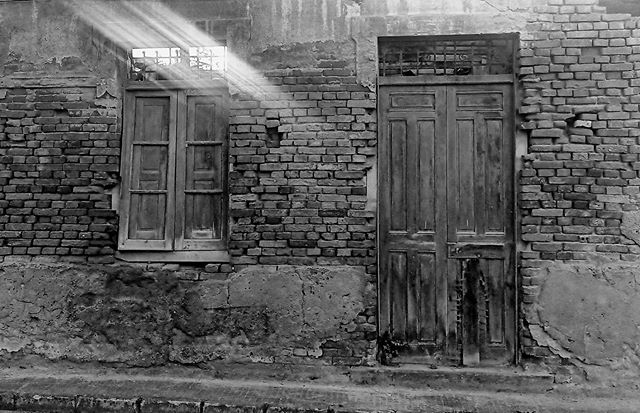door: (382, 43, 516, 376)
window: (116, 40, 224, 259)
